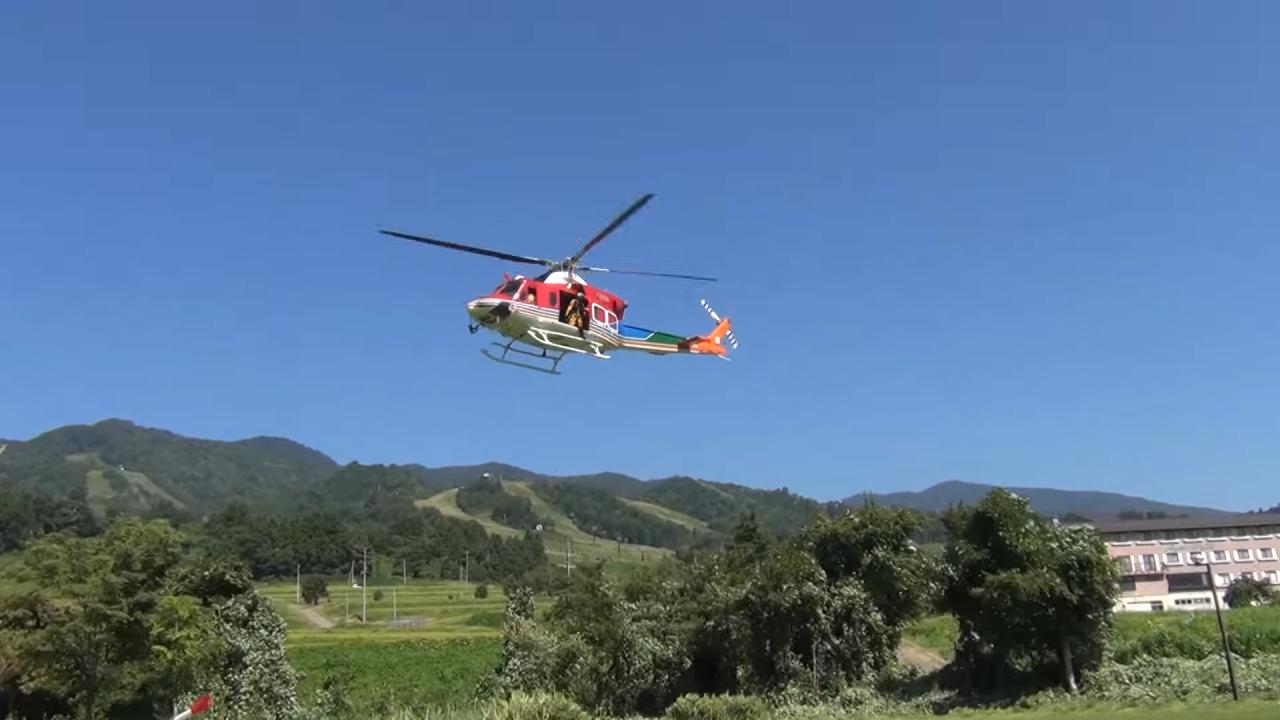Helicopter: (370, 181, 750, 384)
